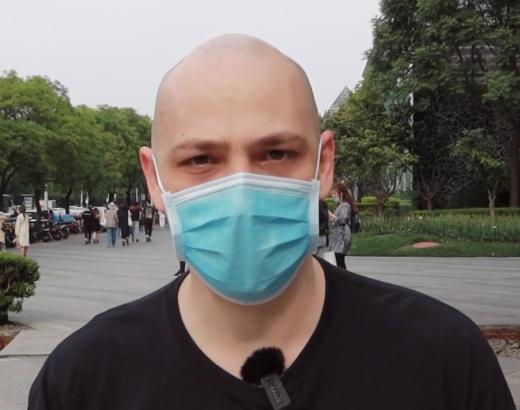OK: (161, 104, 319, 305)
